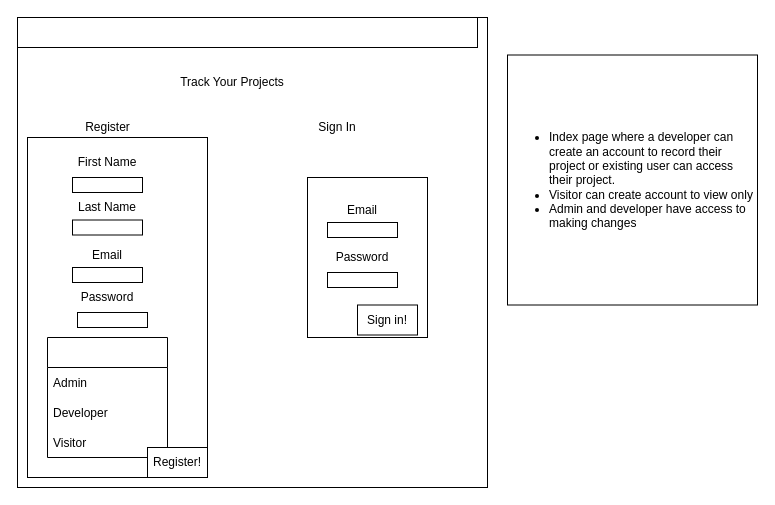
Image size: 775x505. Some labels were removed from this diagram. The box of each missing label's shape, as (x1, y1, x2, y2) in pixels:
Position: (46, 336, 168, 458)
www.projecttracker.com: (16, 16, 478, 48)
